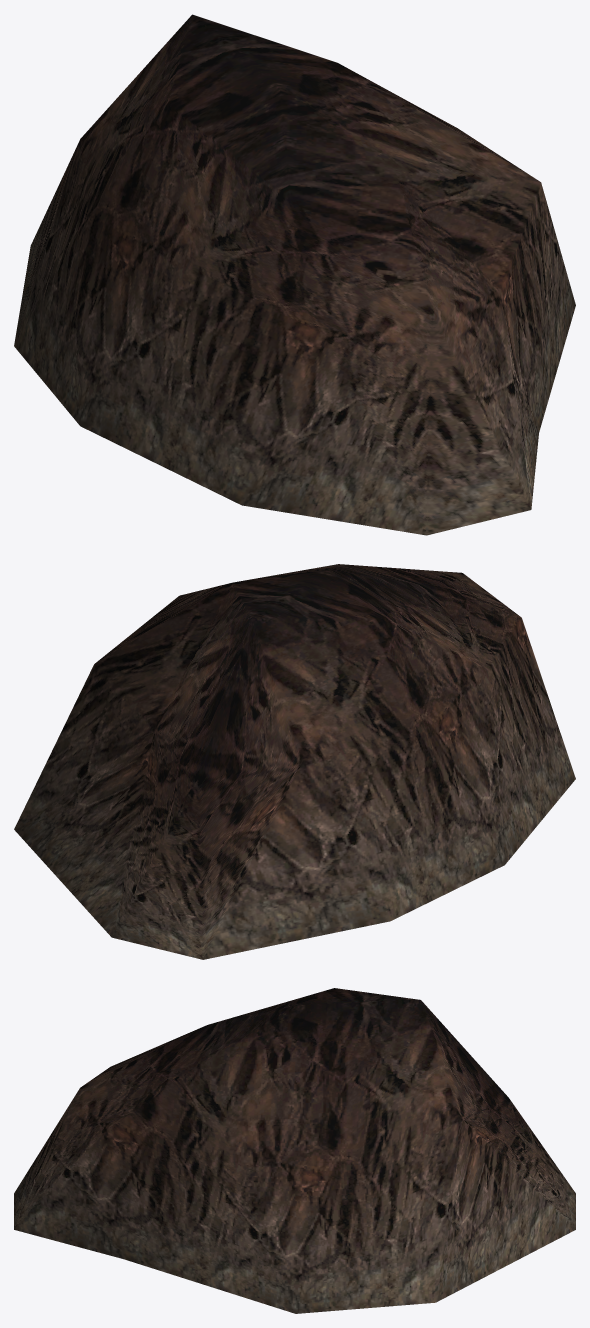
Rendered from burningsteppesboulders05.glb.
3 views of the same model, one above another, from view 1: azimuth 30°, elevation 25°; view 2: azimuth 150°, elevation 25°; view 3: azimuth 270°, elevation 25° (orthographic). The views are drawn at different scales.
Bounding box in the file's own units: 5.56 × 3.2 × 7.69.
1 material, 1 textured.
